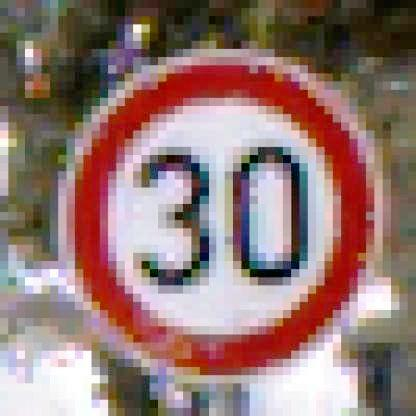Speed Limit -30-: (60, 46, 391, 378)
